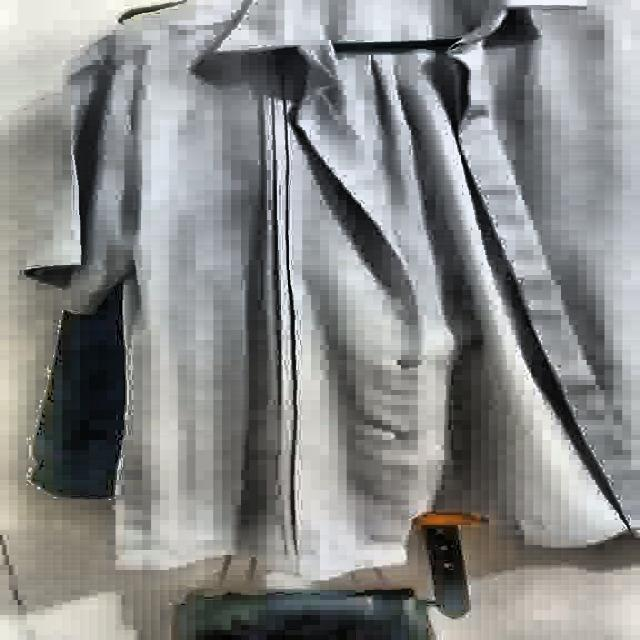clothes: (24, 0, 640, 585)
